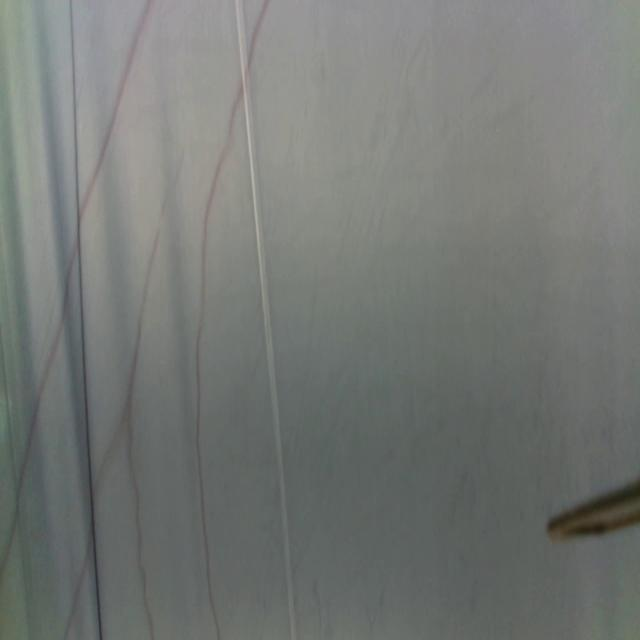crease: (232, 0, 298, 640), (69, 0, 103, 640)
